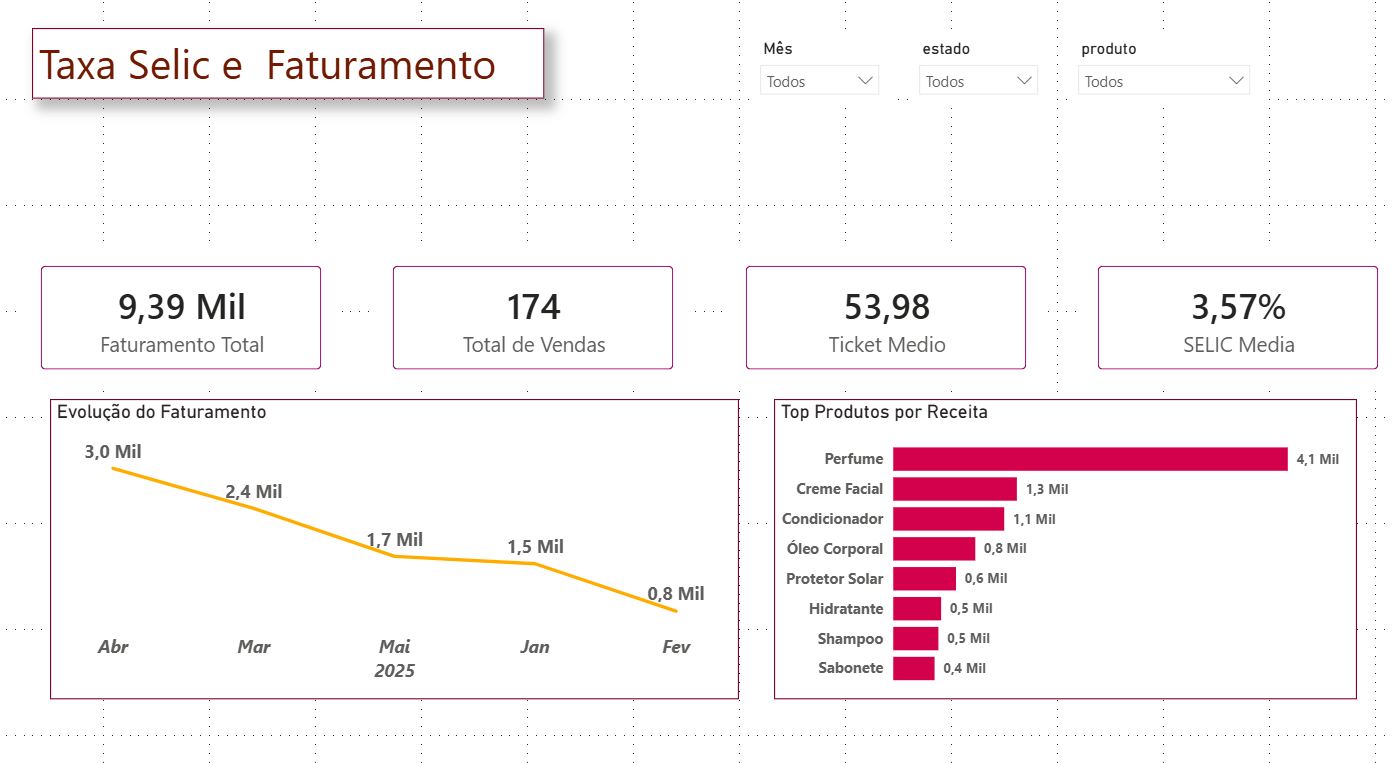

The dashboard page shown, as its layout file describes it:
{"tool":"powerbi","page":{"name":"Página 1","canvas":[1280,720],"ordinal":0},"visuals":[{"type":"cardVisual","fields":{"Data":["Sum(gold_analitico_vendas.valor_total)"]},"box":[22.4,230.5,288,128],"z":0},{"type":"cardVisual","fields":{"Data":["Sum(gold_analitico_vendas.quantidade)"]},"box":[341.7,230.5,288,128],"z":1000},{"type":"cardVisual","fields":{"Data":["gold_analitico_vendas.Ticket Medio"]},"box":[661,230.5,288,128],"z":2000},{"type":"cardVisual","fields":{"Data":["gold_analitico_vendas.SELIC Media"]},"box":[980.4,230.5,288,128],"z":3000},{"type":"lineChart","title":"Evolução do Faturamento","fields":{"Category":["tbCalendario.Ano","tbCalendario.Nome Curto do Mês"],"Y":["Sum(gold_analitico_vendas.valor_total)"]},"box":[48,368,624,272],"z":4000},{"type":"barChart","title":"Top Produtos por Receita","fields":{"Category":["gold_analitico_vendas.produto"],"Y":["Sum(gold_analitico_vendas.valor_total)"]},"box":[704,368,528,272],"z":5000},{"type":"textbox","box":[32,32,464,64],"z":6000},{"type":"slicer","fields":{"Values":["tbCalendario.Nome Curto do Mês"]},"box":[681.1,37.1,128,64],"z":7000},{"type":"slicer","fields":{"Values":["gold_analitico_vendas.estado"]},"box":[825.1,37.1,128,64],"z":8000},{"type":"slicer","fields":{"Values":["gold_analitico_vendas.produto"]},"box":[969.1,37.1,176,64],"z":9000}]}

Visuals, with their boxes in screenshot pixels (x1, y1, x2, y2), scaled from the page's 1280x720 canvas onto the 1392x763 screenshot:
cardVisual - Sum(gold_analitico_vendas.valor_total): (24,244,338,380)
cardVisual - Sum(gold_analitico_vendas.quantidade): (372,244,685,380)
cardVisual - gold_analitico_vendas.Ticket Medio: (719,244,1032,380)
cardVisual - gold_analitico_vendas.SELIC Media: (1066,244,1379,380)
"Evolução do Faturamento" lineChart: (52,390,731,678)
"Top Produtos por Receita" barChart: (766,390,1340,678)
textbox: (35,34,539,102)
slicer - tbCalendario.Nome Curto do Mês: (741,39,880,107)
slicer - gold_analitico_vendas.estado: (897,39,1036,107)
slicer - gold_analitico_vendas.produto: (1054,39,1245,107)
